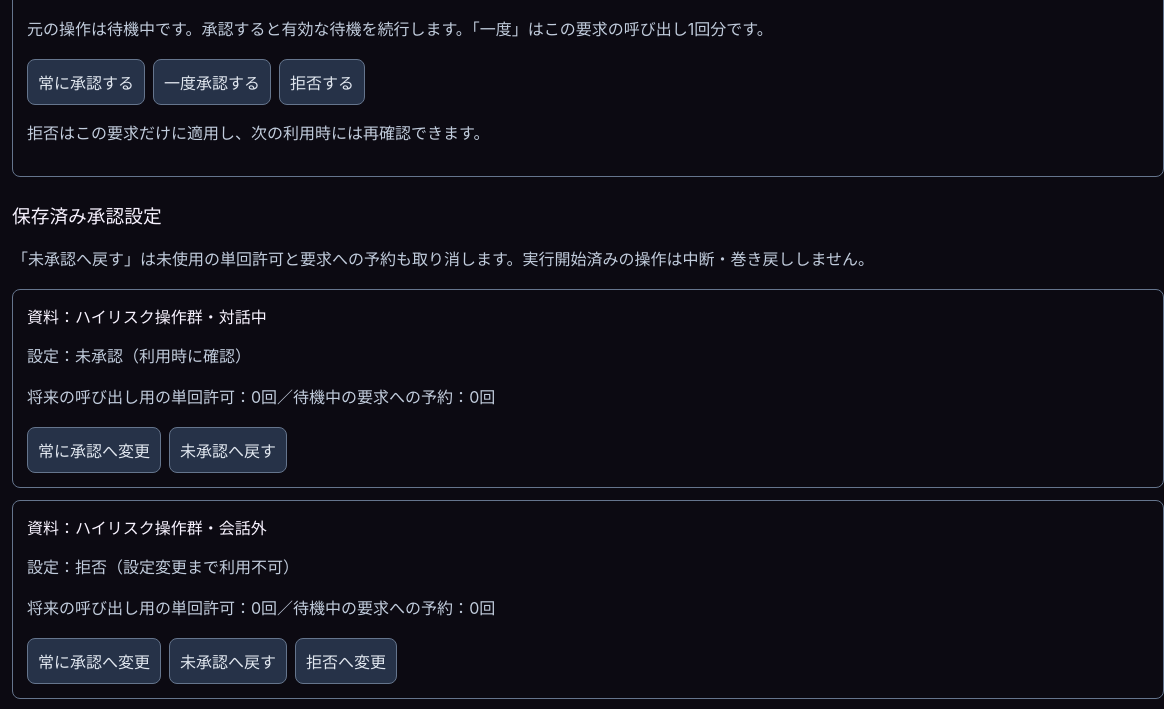
it: 未承認への変更は表示した承認範囲へ限定し、対話中の永続拒否は作らない
This screenshot has width=1164, height=709.
(page scrolled)
Expected: the text "設定：拒否（設定変更まで利用不可）" is shown, [27,557,299,577]
Click the button "未承認へ戻す" below "拒否（設定変更まで利用不可）". click: (228, 661)
box: [169,638,287,684]
(page scrolled)
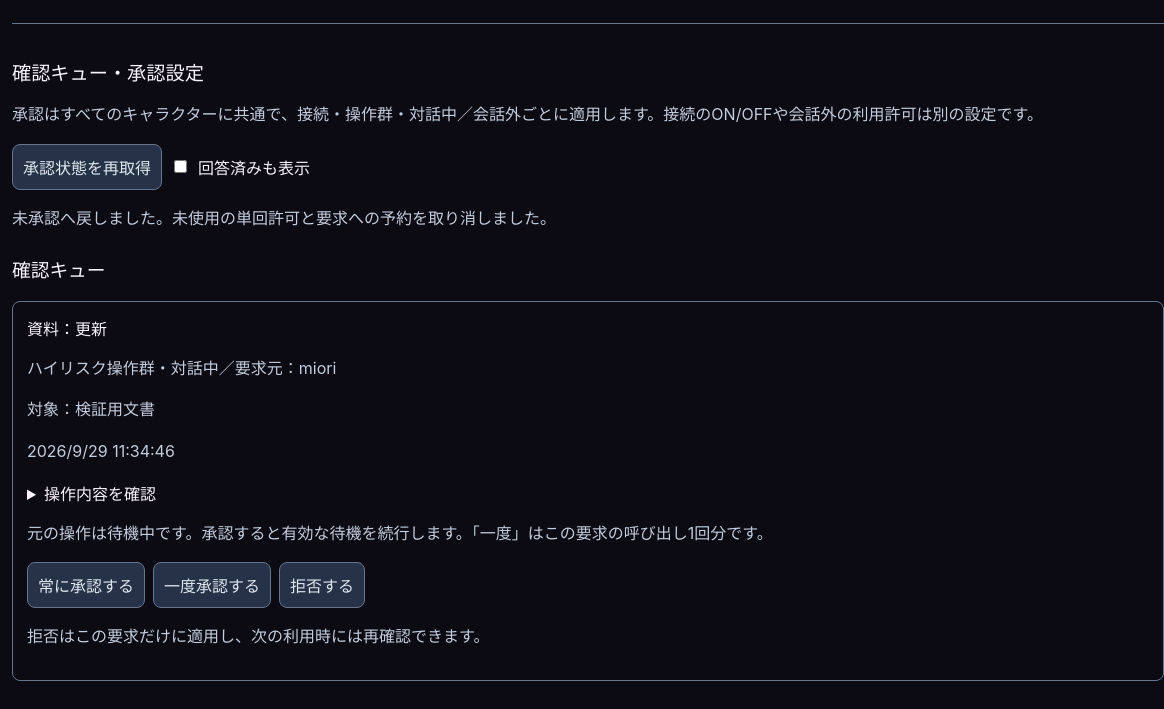
Result: the text "未承認へ戻しました。未使用の単回許可と要求への予約を取り消しました。" is shown at [12,208,556,228]
